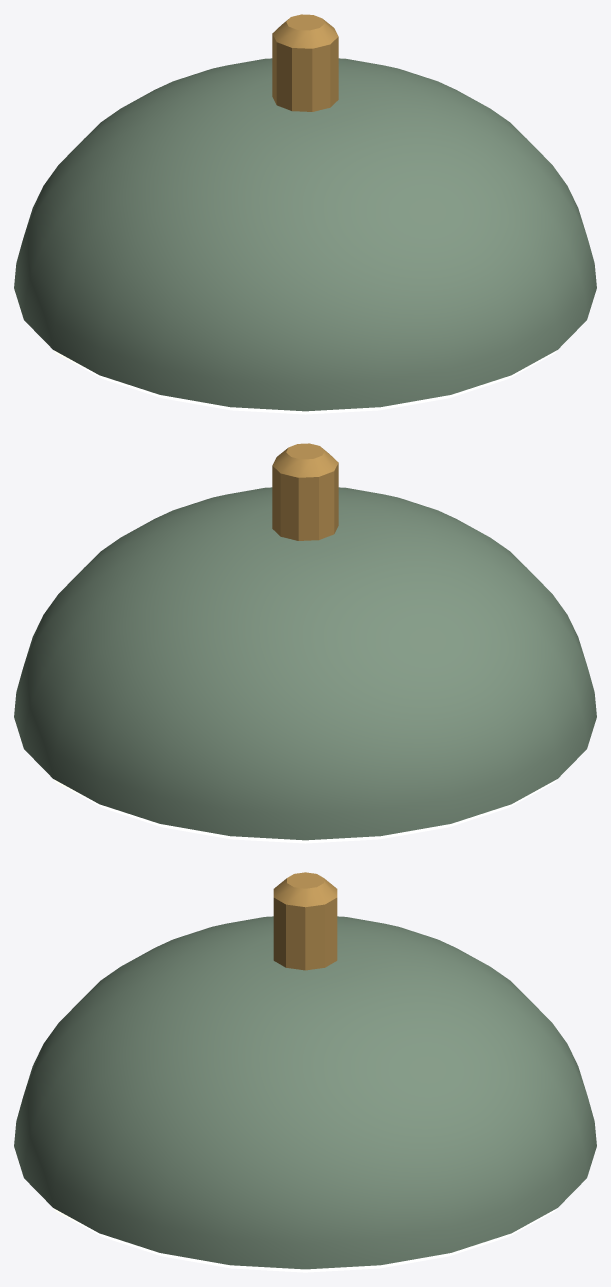
The model's file is dome_sage.glb.
3 views of the same model, one above another, from view 1: azimuth 30°, elevation 25°; view 2: azimuth 150°, elevation 25°; view 3: azimuth 270°, elevation 25° (orthographic).
Visible parts, largest first — view 1: dome_sage; view 2: dome_sage; view 3: dome_sage.
Part boxes in pixels (x1,y1,x2,y2): dome_sage: (14,14,596,414); dome_sage: (14,443,596,843); dome_sage: (14,872,596,1272).
Bounding box in the file's own units: 0.42 × 0.2152 × 0.42.
